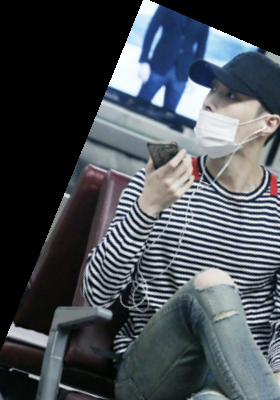mask_weared_incorrect: (183, 46, 280, 174)
